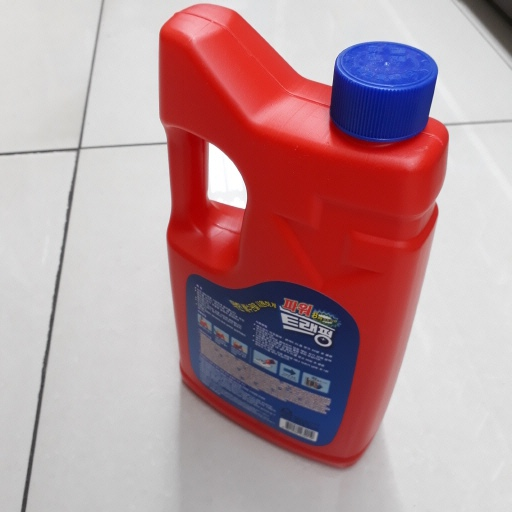Plastic_1: (162, 2, 448, 473)
